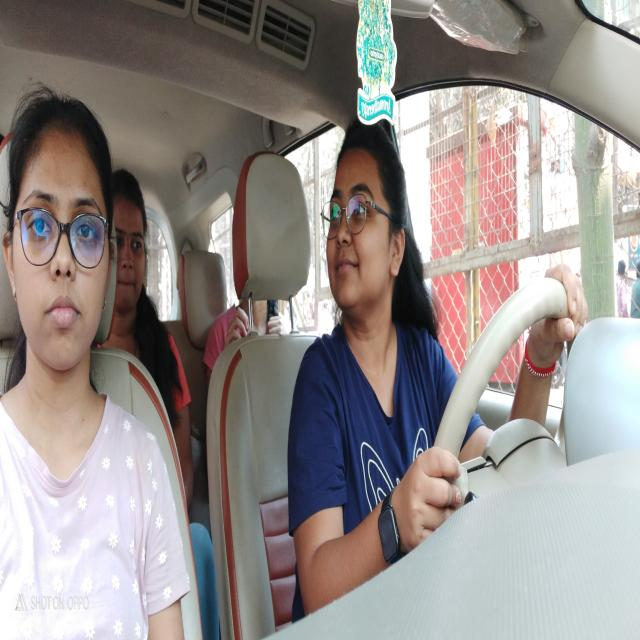LeftRight: (320, 110, 407, 350)
person: (5, 88, 114, 391), (112, 160, 150, 338)
